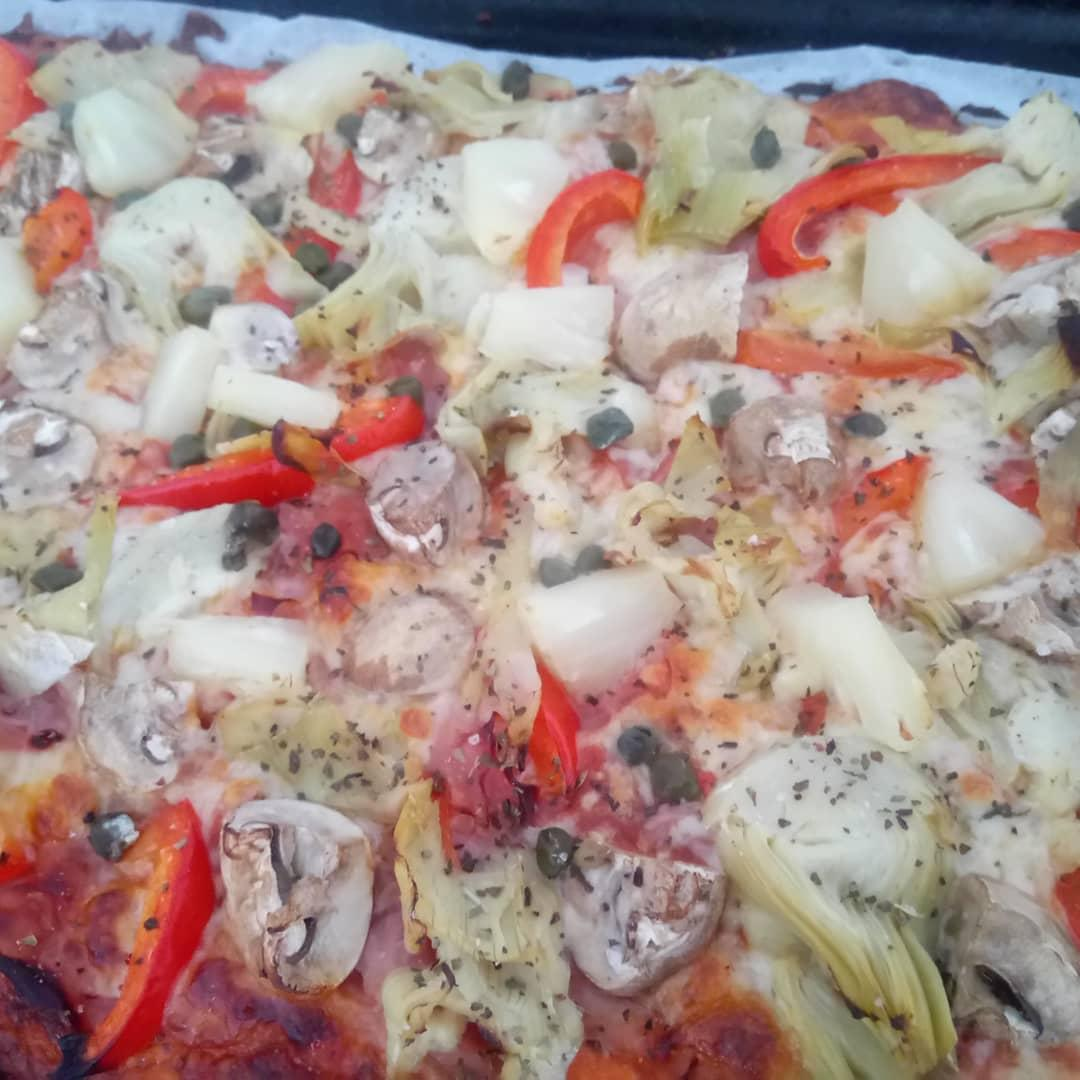Ham: (423, 721, 650, 867), (283, 488, 380, 605), (0, 672, 78, 761)
Mushroom: (223, 801, 362, 1000), (941, 866, 1080, 1065), (713, 388, 857, 510), (951, 548, 1080, 674), (368, 438, 482, 565), (348, 596, 469, 697), (3, 406, 100, 525)
Olives: (588, 396, 639, 452), (648, 756, 700, 809), (28, 553, 95, 594), (533, 828, 579, 879), (733, 126, 791, 166), (288, 231, 332, 281), (596, 133, 647, 176), (568, 536, 619, 577), (181, 281, 227, 324), (228, 506, 282, 542), (608, 723, 657, 762), (326, 106, 370, 146), (243, 191, 289, 229), (168, 428, 209, 469), (843, 408, 886, 442), (538, 546, 575, 584), (501, 61, 535, 99), (316, 261, 355, 289), (313, 528, 345, 559)
Pizza: (0, 26, 1080, 1080)
Tomatoes: (123, 406, 420, 524), (93, 811, 222, 1057), (753, 153, 999, 272), (721, 323, 957, 402), (526, 168, 660, 289), (816, 453, 922, 577), (513, 648, 585, 815), (28, 191, 97, 289), (303, 133, 365, 224), (193, 66, 305, 116), (0, 41, 44, 161)
